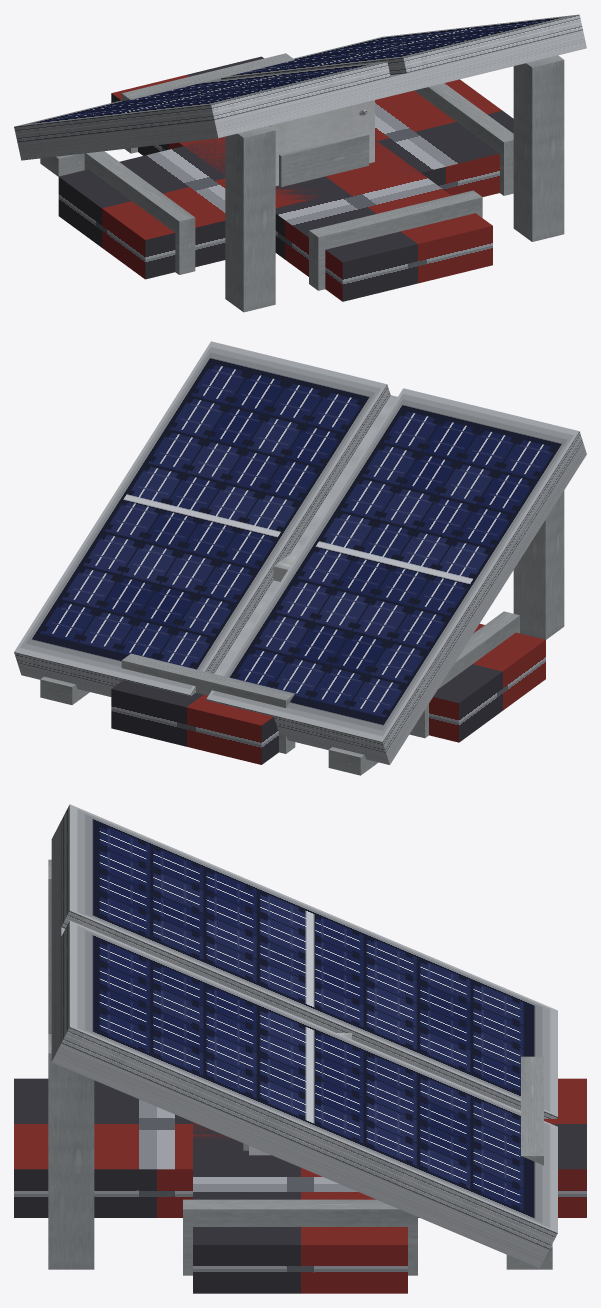
The model's file is pv_tilt.obj.
The picture shows the model from 3 angles, top to bottom: view 1: azimuth 30°, elevation 25°; view 2: azimuth 150°, elevation 25°; view 3: azimuth 270°, elevation 25°; orthographic projection. The views are drawn at different scales.
Visible parts, largest first — view 1: harness_south, legs, modules, harness_west, harness_east, frame, harness, harness_north; view 2: modules, harness_north, harness_west, frame, legs; view 3: modules, harness_east, harness_south, frame, legs, harness_north.
Boxes of the visible parts, x1,y1,x2,y2 form: harness_south: (275, 141, 492, 301); legs: (40, 55, 564, 312); modules: (14, 14, 582, 142); harness_west: (58, 137, 330, 279); harness_east: (375, 79, 513, 196); frame: (17, 30, 586, 160); harness: (270, 100, 374, 186); harness_north: (111, 53, 376, 175); modules: (14, 341, 582, 752); harness_north: (111, 653, 295, 764); harness_west: (409, 611, 545, 742); frame: (17, 395, 586, 764); legs: (40, 490, 564, 775); modules: (61, 804, 557, 1249); harness_east: (183, 1124, 417, 1293); harness_south: (14, 1078, 240, 1217); frame: (51, 821, 548, 1268); legs: (48, 859, 552, 1269); harness_north: (418, 1056, 586, 1217).
Size of the model in its own units: 1 by 0.4952 by 1.
